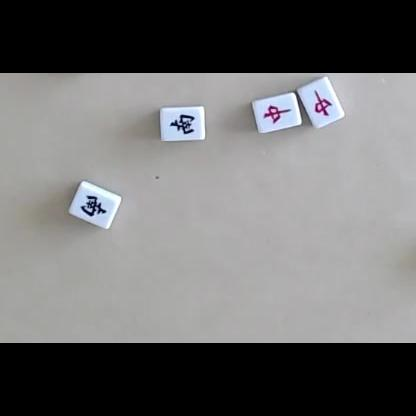2z: (80, 195, 107, 217), (168, 114, 196, 135)
7z: (313, 89, 333, 118), (263, 105, 291, 124)
